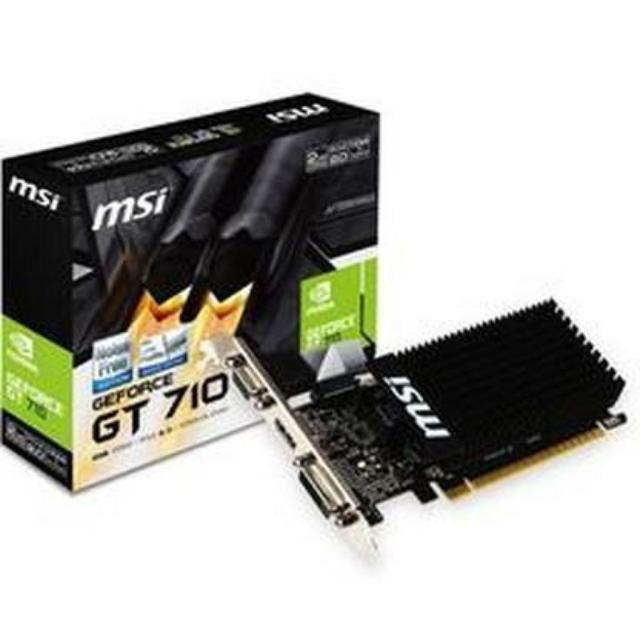GPU: (229, 279, 640, 516)
